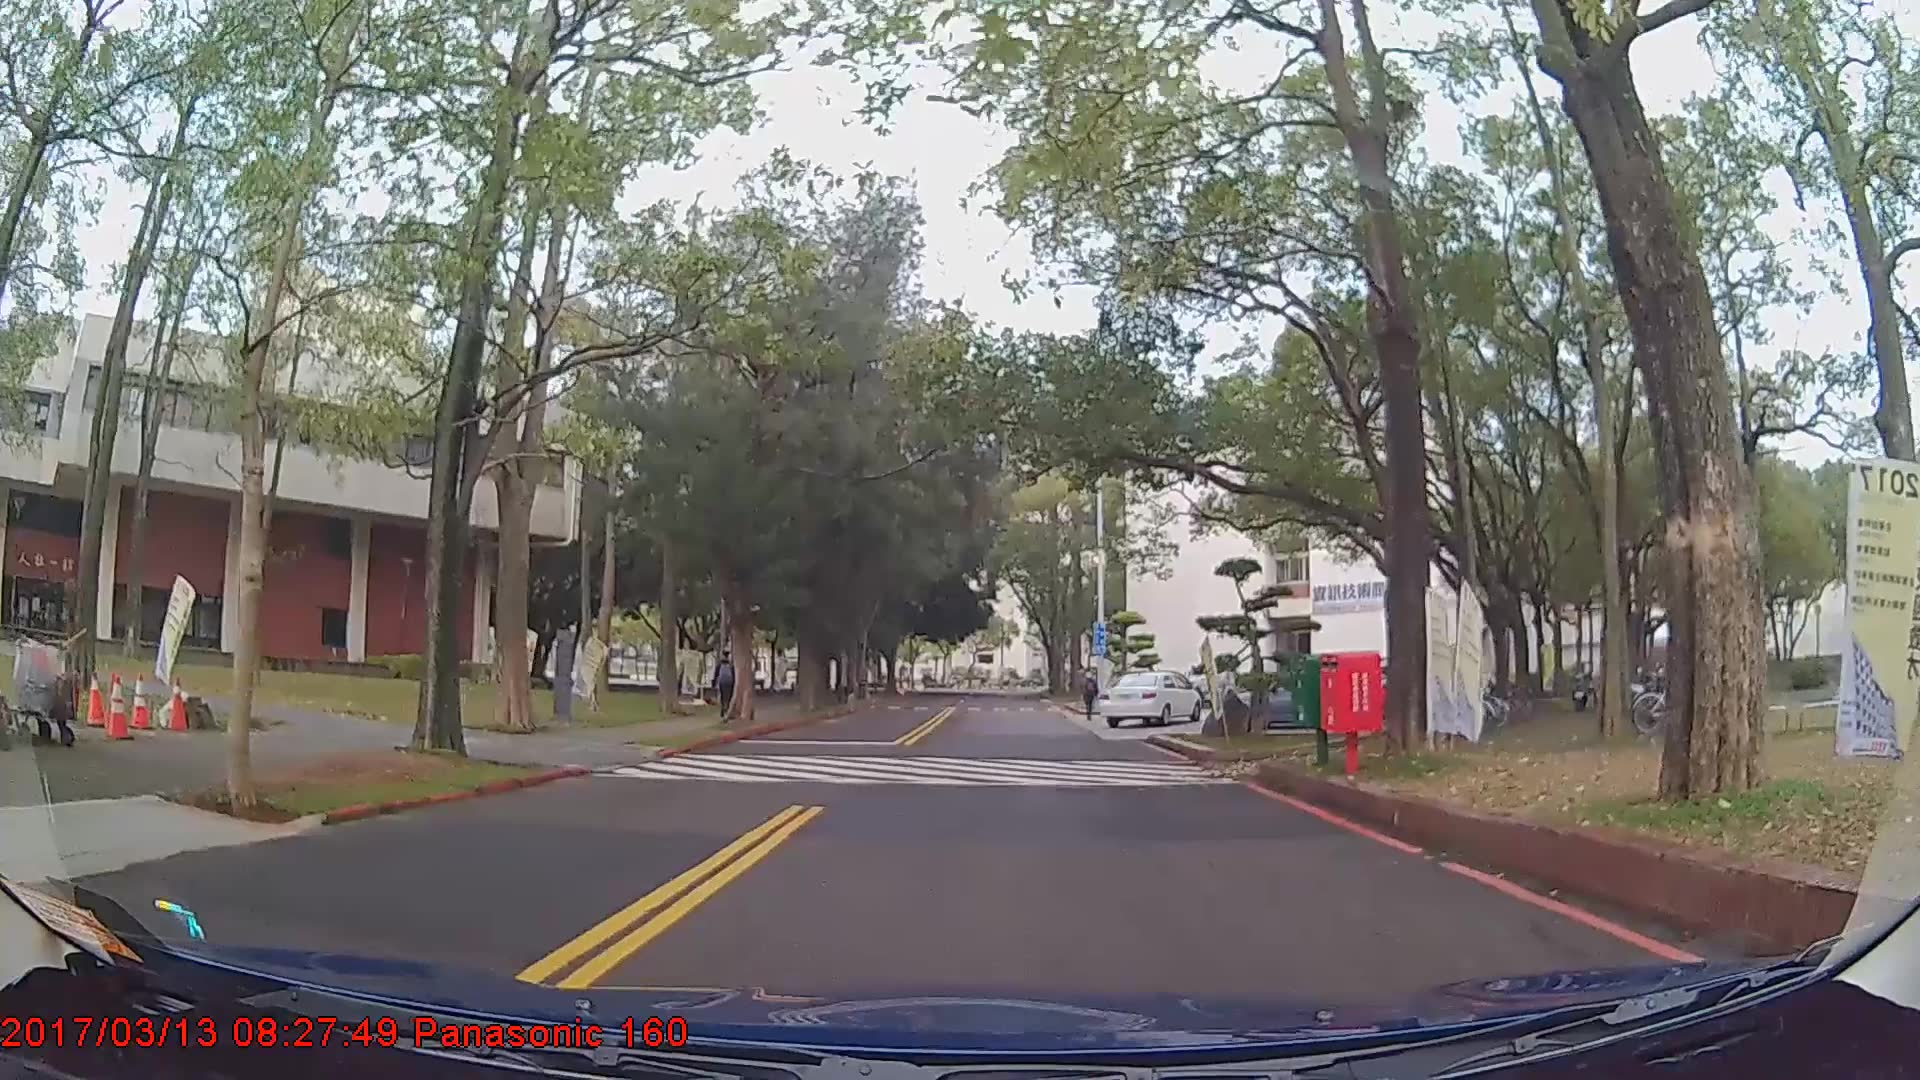pedestrian: (712, 653, 742, 723), (1079, 668, 1100, 722)
vehicle: (1101, 669, 1204, 724)
